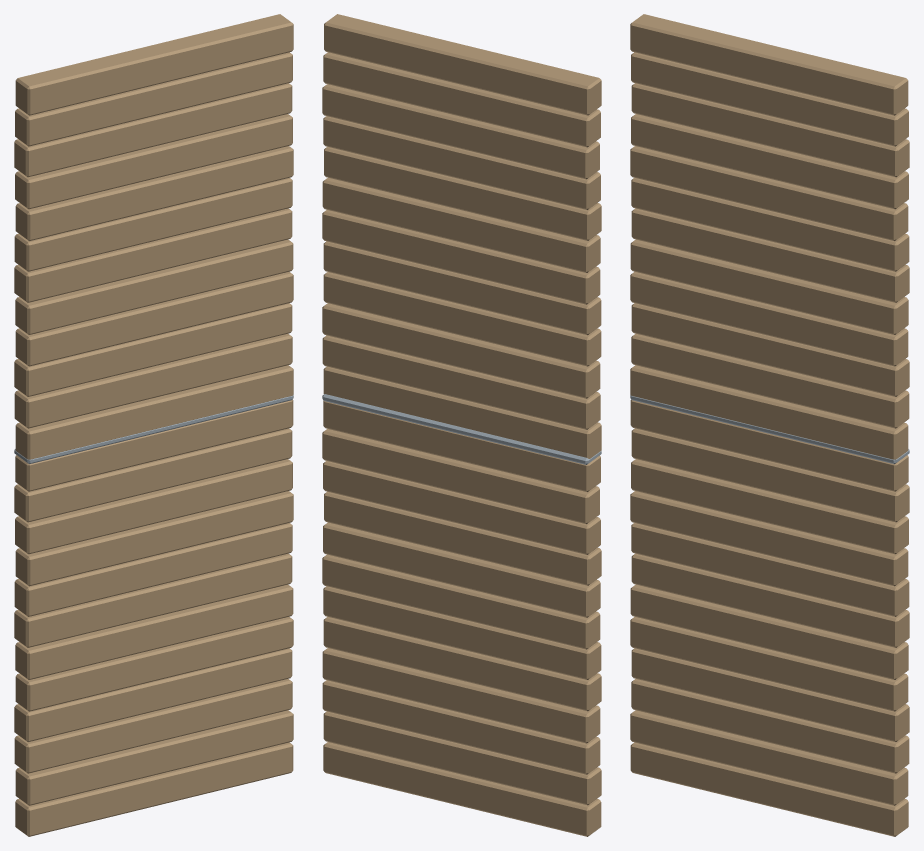
Rendered from wall_2_level.glb.
3 renders of one model, left to right at view 1: azimuth 30°, elevation 25°; view 2: azimuth 150°, elevation 25°; view 3: azimuth 330°, elevation 25°, orthographic.
Visible parts, largest first — view 1: wall_2_level; view 2: wall_2_level; view 3: wall_2_level.
Boxes of the visible parts, box(x1,y1,x2,y2) form: wall_2_level: box(14, 14, 293, 836); wall_2_level: box(322, 14, 601, 836); wall_2_level: box(630, 14, 909, 836).
Size of the model in its own units: 2 by 5.39 by 0.2.
